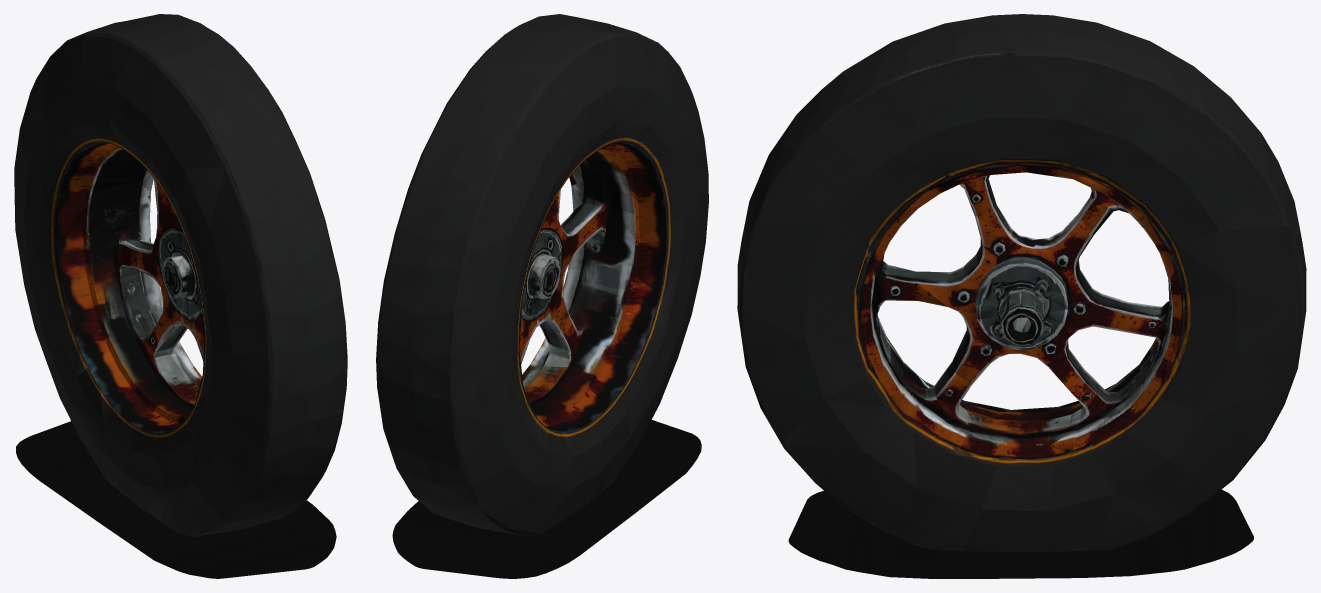
The model's file is wheel_spoked.glb.
The picture shows the model from 3 angles, left to right: view 1: azimuth 30°, elevation 25°; view 2: azimuth 150°, elevation 25°; view 3: azimuth 270°, elevation 25°; orthographic projection. The views are drawn at different scales.
Parts seen in each view (by area): view 1: tripo_node_ddf26cc0-2504-421c-81aa-463cc3d305e5; view 2: tripo_node_ddf26cc0-2504-421c-81aa-463cc3d305e5; view 3: tripo_node_ddf26cc0-2504-421c-81aa-463cc3d305e5.
Boxes of the visible parts, x1=… form: tripo_node_ddf26cc0-2504-421c-81aa-463cc3d305e5: x1=14, y1=14, x2=347, y2=578; tripo_node_ddf26cc0-2504-421c-81aa-463cc3d305e5: x1=376, y1=14, x2=708, y2=578; tripo_node_ddf26cc0-2504-421c-81aa-463cc3d305e5: x1=737, y1=14, x2=1306, y2=578.
Bounding box in the file's own units: 0.4004 × 0.9984 × 0.9986.
1 material, 1 textured.
